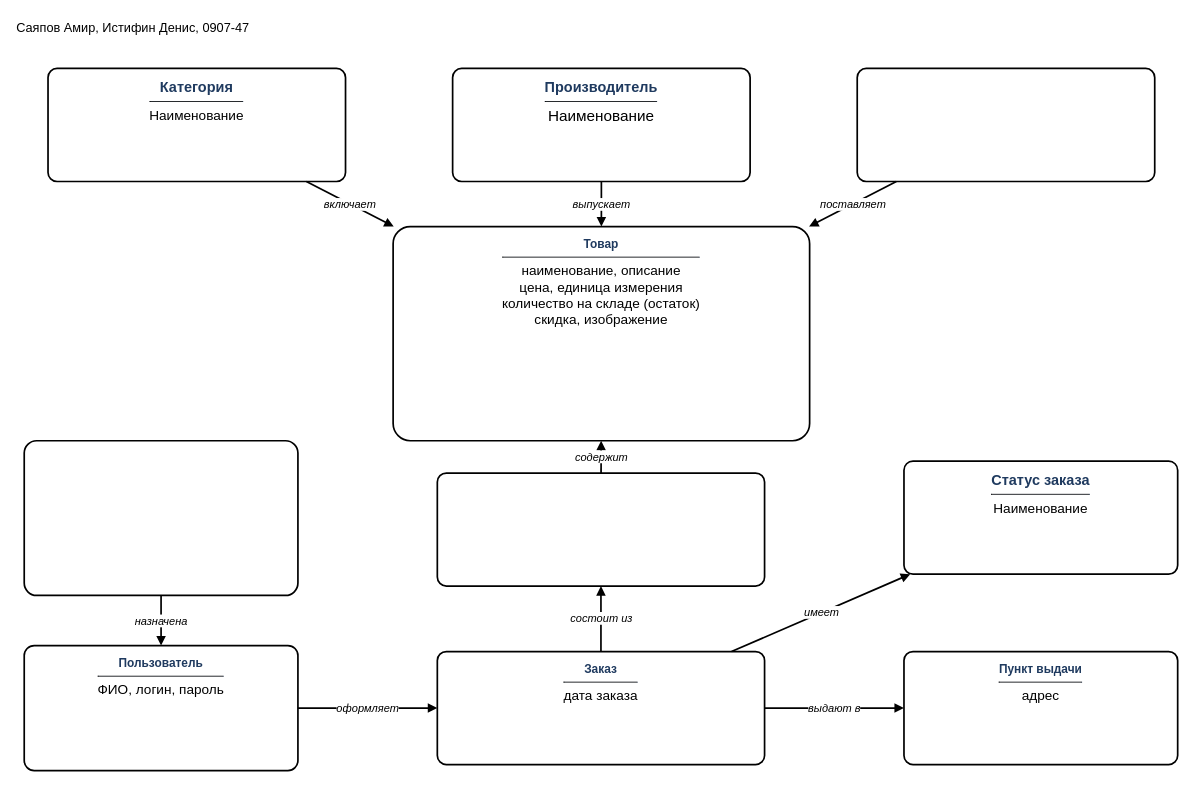
Some shapes in this 1193 by 785 pixel diagram are drawn without their labels. Here are the shapes that lost their labels. From the top down, the centre of each, then its label:
pixel 1005 124: Поставщик Наименование
pixel 160 517: Роль значения: гость, клиент, менеджер, администратор
pixel 600 529: Строка заказа количество товара
